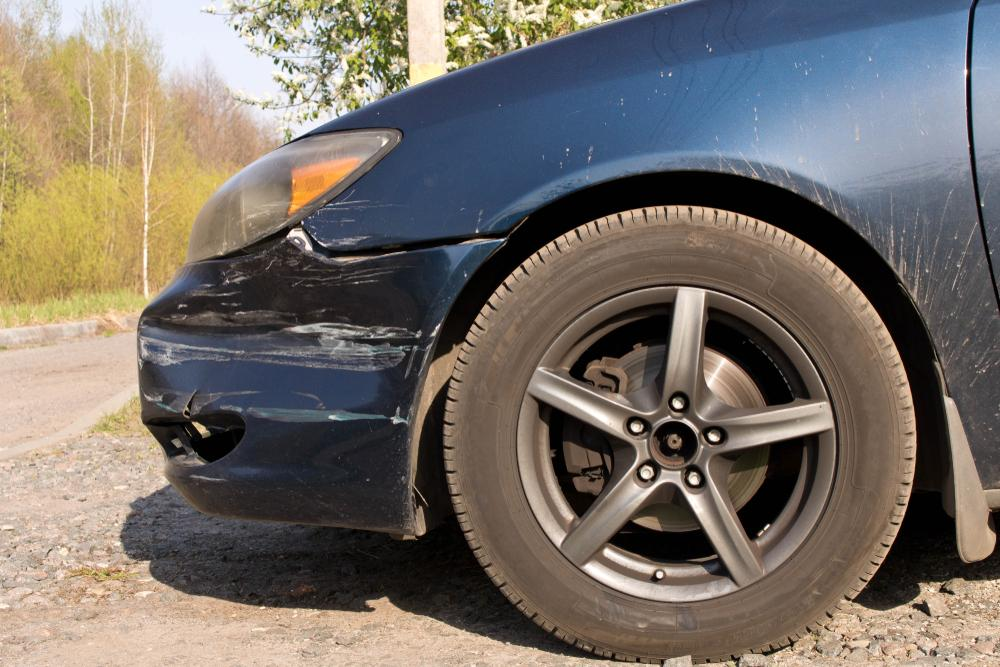crack: (182, 389, 198, 418)
dent: (142, 247, 448, 412)
